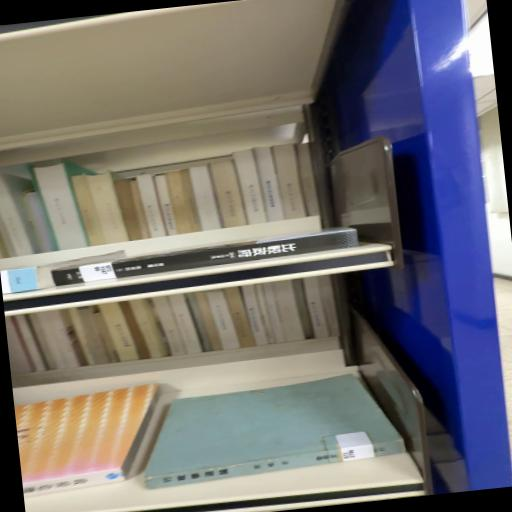flat: (145, 375, 407, 490), (53, 229, 359, 287), (15, 384, 162, 499)
